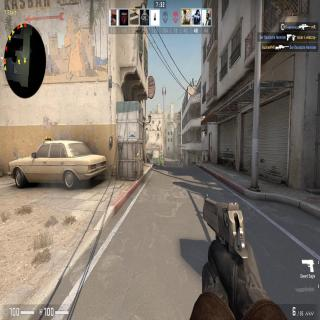CT-Body: (160, 162, 162, 166)
CT-Head: (160, 162, 161, 164)
